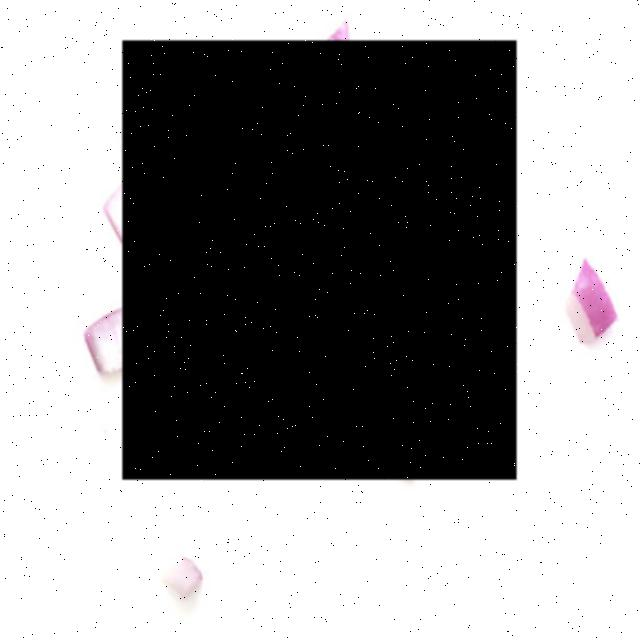Onion: (122, 42, 516, 481)
